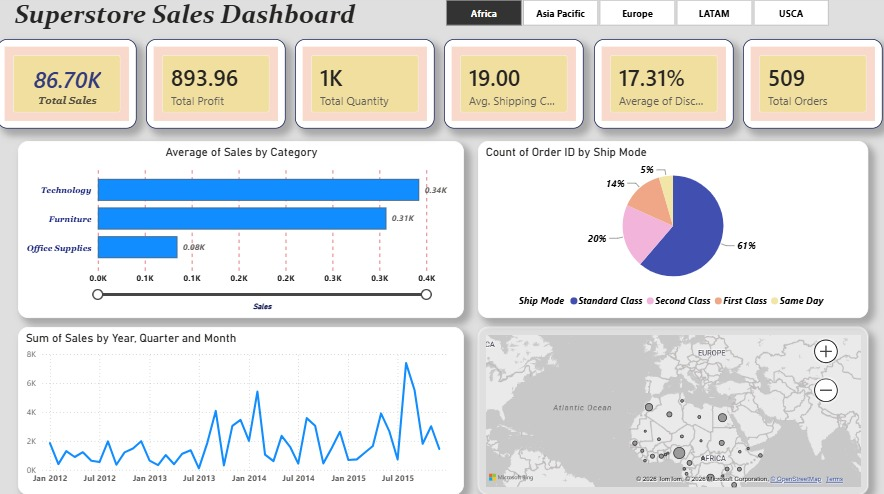

The page's visual inventory and layout, read from the dashboard file:
{"tool":"powerbi","page":{"name":"Page 1","canvas":[1280,720],"ordinal":0},"visuals":[{"type":"cardVisual","fields":{"Data":["Sum(Orders.Sales)"]},"box":[0,63.9,190.2,129.5],"z":0},{"type":"clusteredBarChart","fields":{"Category":["Orders.Category"],"Y":["Avg(Orders.Sales)"]},"box":[30,210,641.7,255],"z":1000},{"type":"textbox","box":[152.5,0,486.2,63.8],"z":2000},{"type":"cardVisual","fields":{"Data":["Sum(Orders.Profit)"]},"box":[200,63.9,196.7,129.5],"z":3000},{"type":"cardVisual","fields":{"Data":["Sum(Orders.Quantity)"]},"box":[403.3,63.9,182,129.5],"z":4000},{"type":"cardVisual","fields":{"Data":["Avg(Orders.Shipping Cost)"]},"box":[603.3,63.9,204.9,129.5],"z":5000},{"type":"cardVisual","fields":{"Data":["Avg(Orders.Discount)"]},"box":[832.8,63.9,229.5,129.5],"z":6000},{"type":"cardVisual","fields":{"Data":["CountNonNull(Orders.Order ID)"]},"box":[1073.8,63.9,206.6,129.5],"z":7000},{"type":"pieChart","fields":{"Category":["Orders.Ship Mode"],"Y":["CountNonNull(Orders.Order ID)"]},"box":[693.3,210,561.7,255],"z":8000},{"type":"lineChart","fields":{"Category":["Orders.Order Date.Variation.Date Hierarchy.Year","Orders.Order Date.Variation.Date Hierarchy.Quarter","Orders.Order Date.Variation.Date Hierarchy.Month","Orders.Order Date.Variation.Date Hierarchy.Day"],"Y":["Sum(Orders.Sales)"]},"box":[30,478.3,641.7,241.7],"z":9000},{"type":"map","fields":{"Category":["Orders.Country"],"Size":["CountNonNull(Orders.Order ID)"]},"box":[693.3,478.3,561.7,241.7],"z":10000},{"type":"slicer","fields":{"Values":["Orders.Market"]},"box":[620,0,601.2,51.2],"z":11000}]}

Visuals, with their boxes in screenshot pixels (x1, y1, x2, y2), scaled from the page's 1280x720 canvas onto the 884x494 screenshot:
cardVisual - Sum(Orders.Sales): x1=0 y1=44 x2=131 y2=133
clusteredBarChart - Orders.Category x Avg(Orders.Sales): x1=21 y1=144 x2=464 y2=319
textbox: x1=105 y1=0 x2=441 y2=44
cardVisual - Sum(Orders.Profit): x1=138 y1=44 x2=274 y2=133
cardVisual - Sum(Orders.Quantity): x1=279 y1=44 x2=404 y2=133
cardVisual - Avg(Orders.Shipping Cost): x1=417 y1=44 x2=558 y2=133
cardVisual - Avg(Orders.Discount): x1=575 y1=44 x2=734 y2=133
cardVisual - CountNonNull(Orders.Order ID): x1=742 y1=44 x2=883 y2=133
pieChart - Orders.Ship Mode x CountNonNull(Orders.Order ID): x1=479 y1=144 x2=867 y2=319
lineChart - Orders.Order Date.Variation.Date Hierarchy.Year x Orders.Order Date.Variation.Date Hierarchy.Quarter: x1=21 y1=328 x2=464 y2=493
map - Orders.Country x CountNonNull(Orders.Order ID): x1=479 y1=328 x2=867 y2=493
slicer - Orders.Market: x1=428 y1=0 x2=843 y2=35
